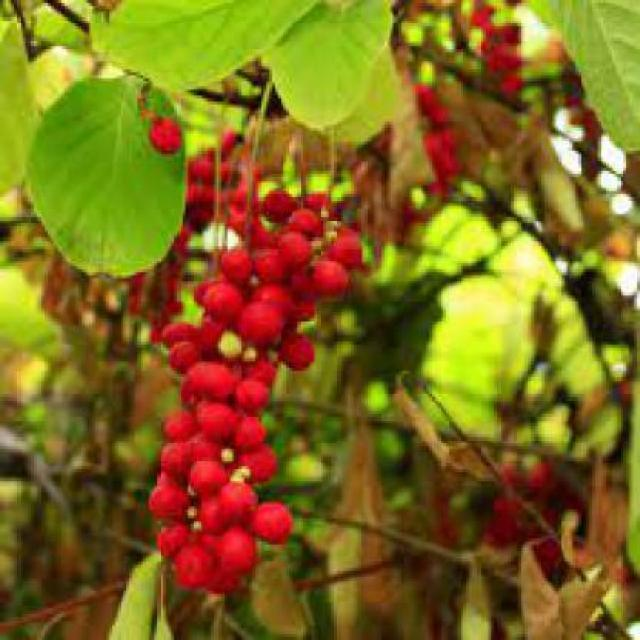RIPE: (157, 177, 351, 594)
